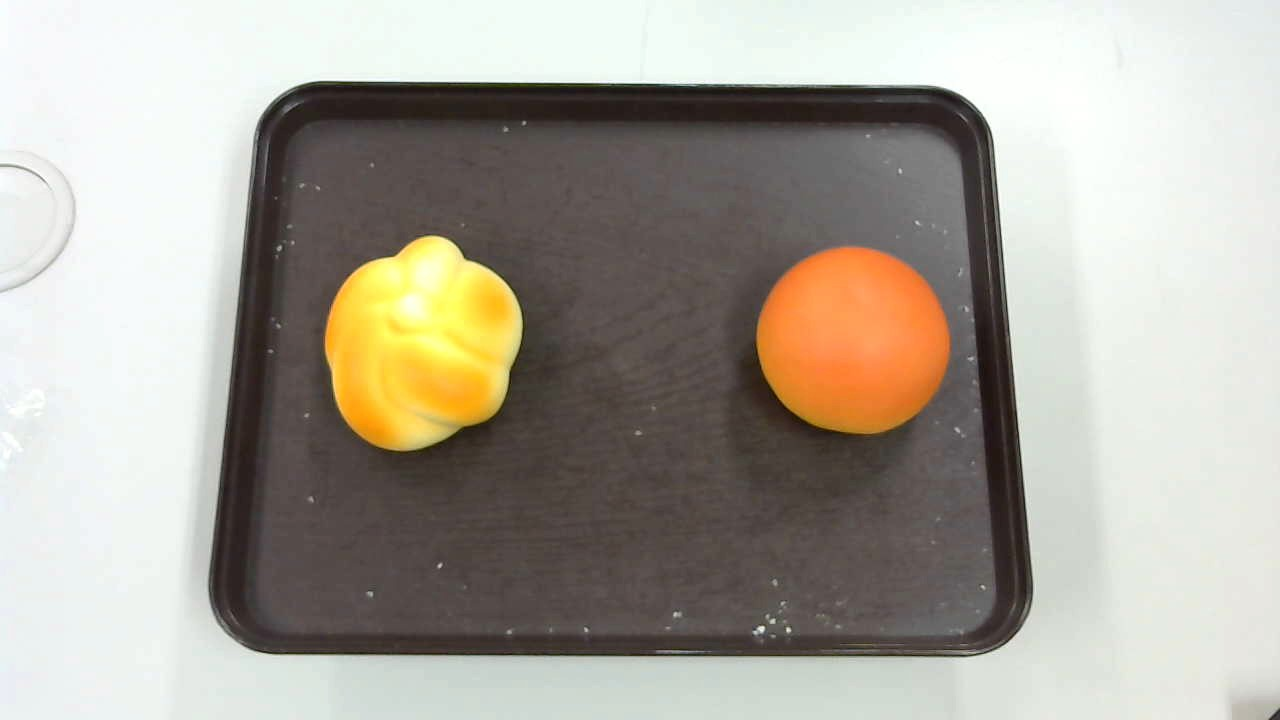bun: (757, 244, 950, 436)
twist bread: (324, 233, 523, 454)
